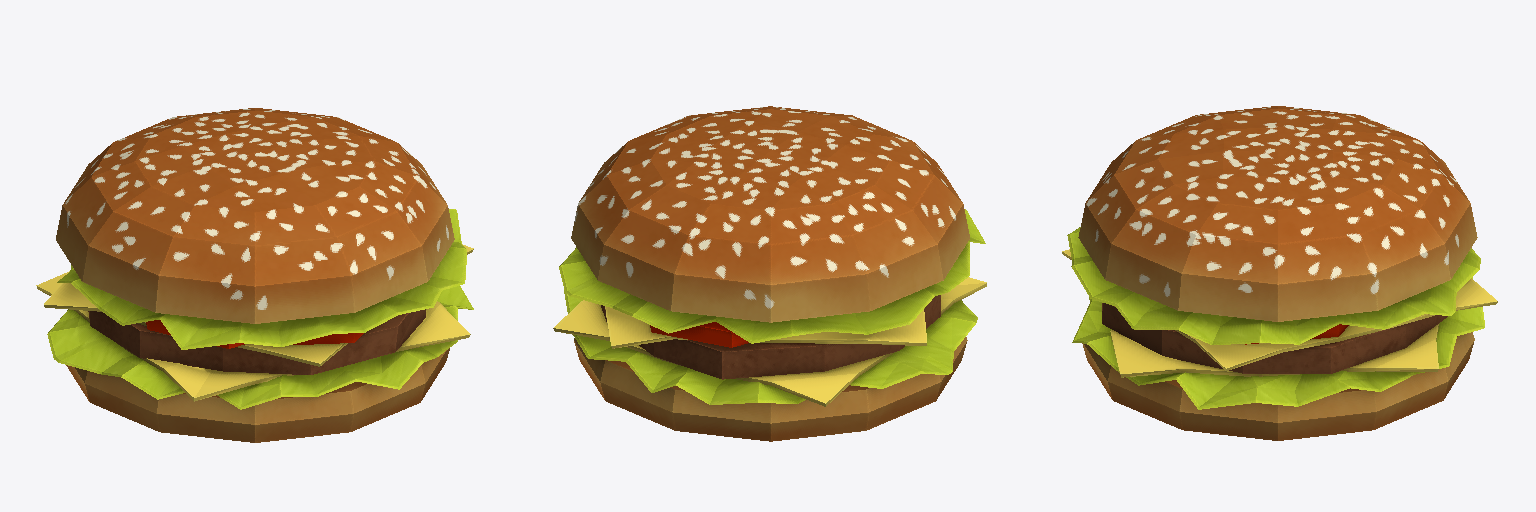
The picture shows the model from 3 angles: view 1: azimuth 30°, elevation 25°; view 2: azimuth 150°, elevation 25°; view 3: azimuth 270°, elevation 25°; orthographic projection.
Visible parts, largest first — view 1: Hamburguer_Mesh; view 2: Hamburguer_Mesh; view 3: Hamburguer_Mesh.
Part boxes in pixels (bbox=[...]): Hamburguer_Mesh: bbox=[36, 108, 473, 442]; Hamburguer_Mesh: bbox=[553, 106, 986, 441]; Hamburguer_Mesh: bbox=[1062, 106, 1497, 440].
Bounding box in the file's own units: 7.24 × 3.81 × 7.15.
Materials: 1 (1 with a texture image).